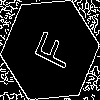F: (25, 25, 75, 72)
